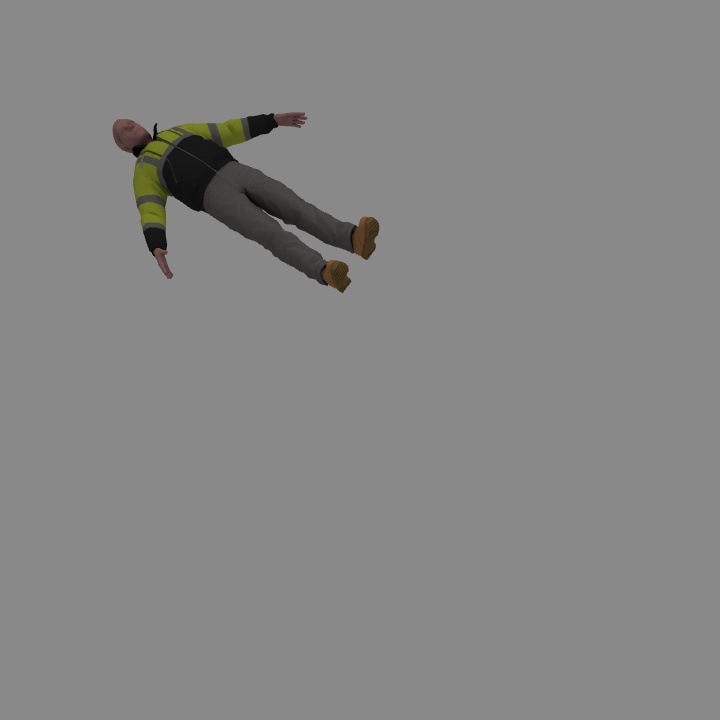victim: (114, 111, 378, 288)
